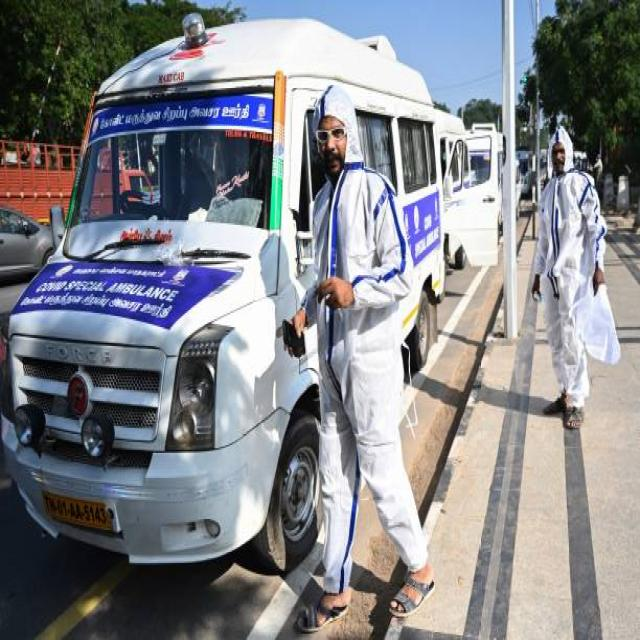ambulance: (6, 15, 445, 575)
